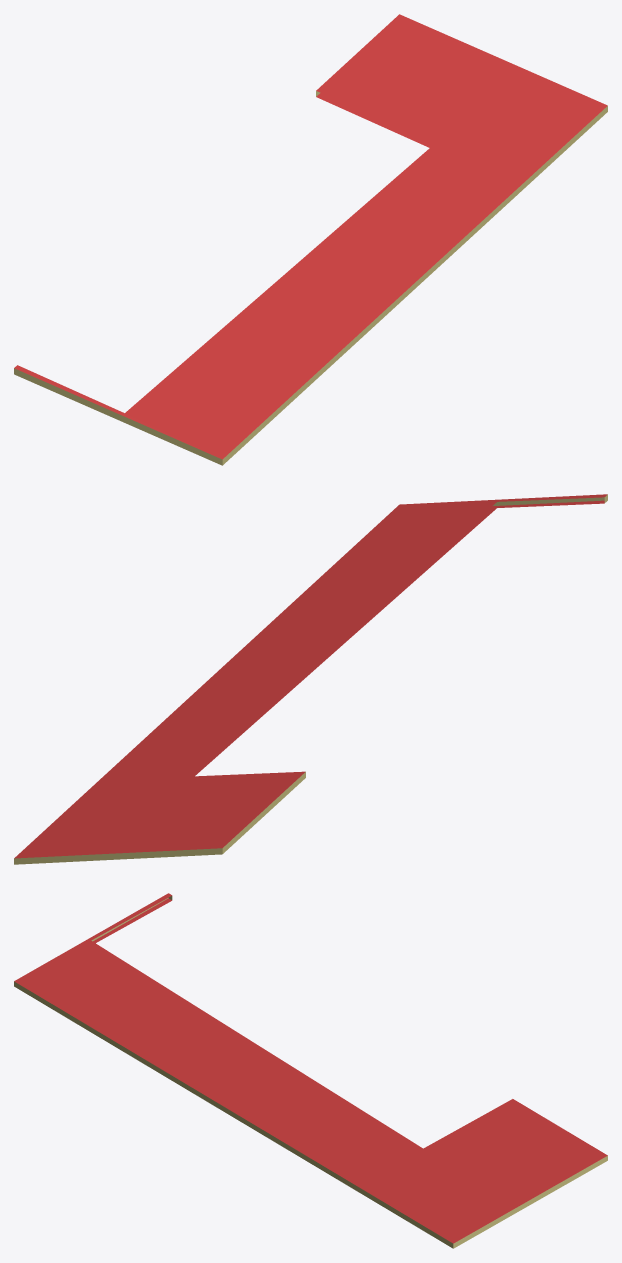
The picture shows the model from 3 angles, top to bottom: view 1: azimuth 30°, elevation 25°; view 2: azimuth 210°, elevation 25°; view 3: azimuth 270°, elevation 25°; orthographic projection. The views are drawn at different scales.
Size of the model in its own units: 12.88 by 10.48 by 0.916.
